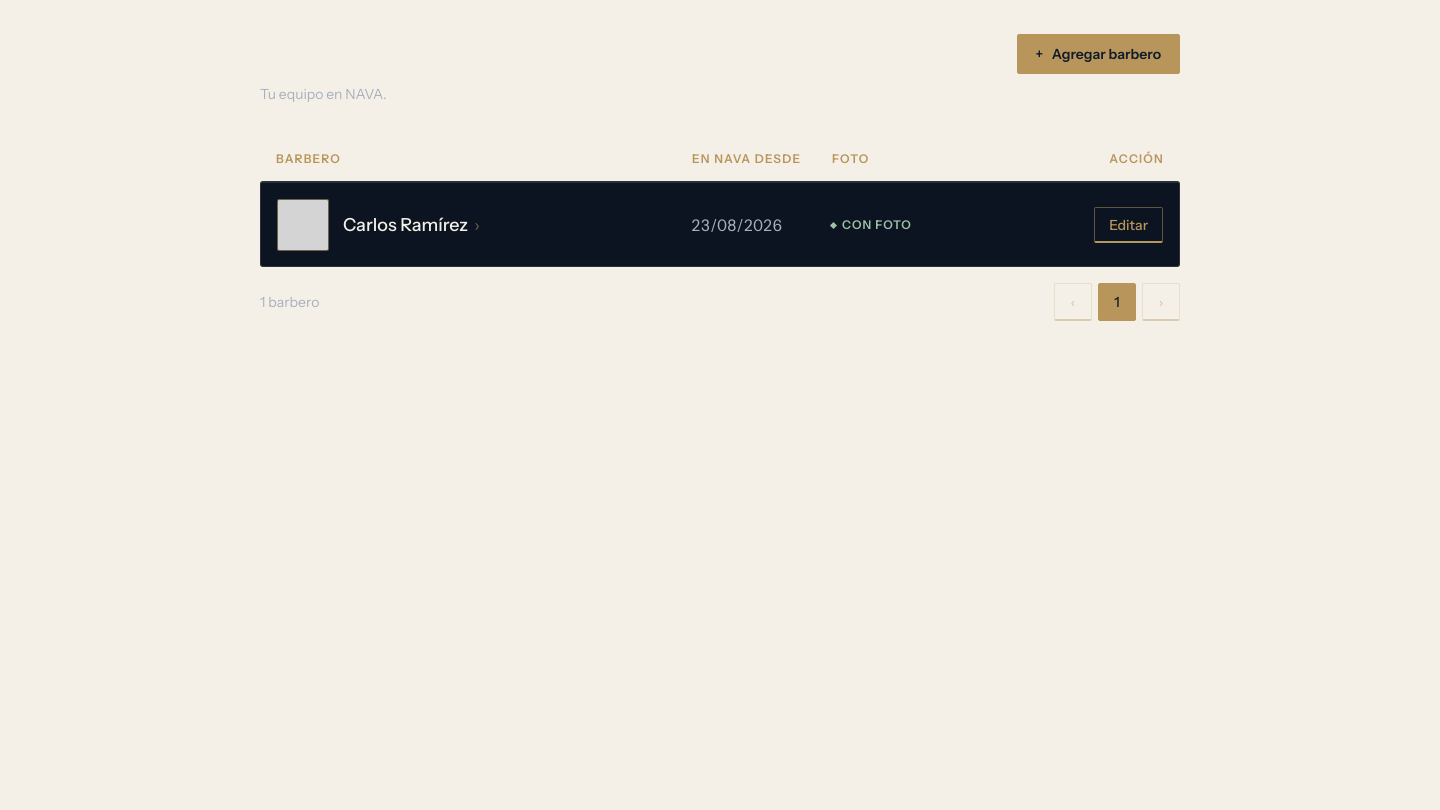
it: StaffPage › opens the barber detail with the portrait, and its Editar button hands over to the edit dialog
Click the button with class "staff-page__item-trigger". click: x=412, y=225
box: [343,213,480,237]
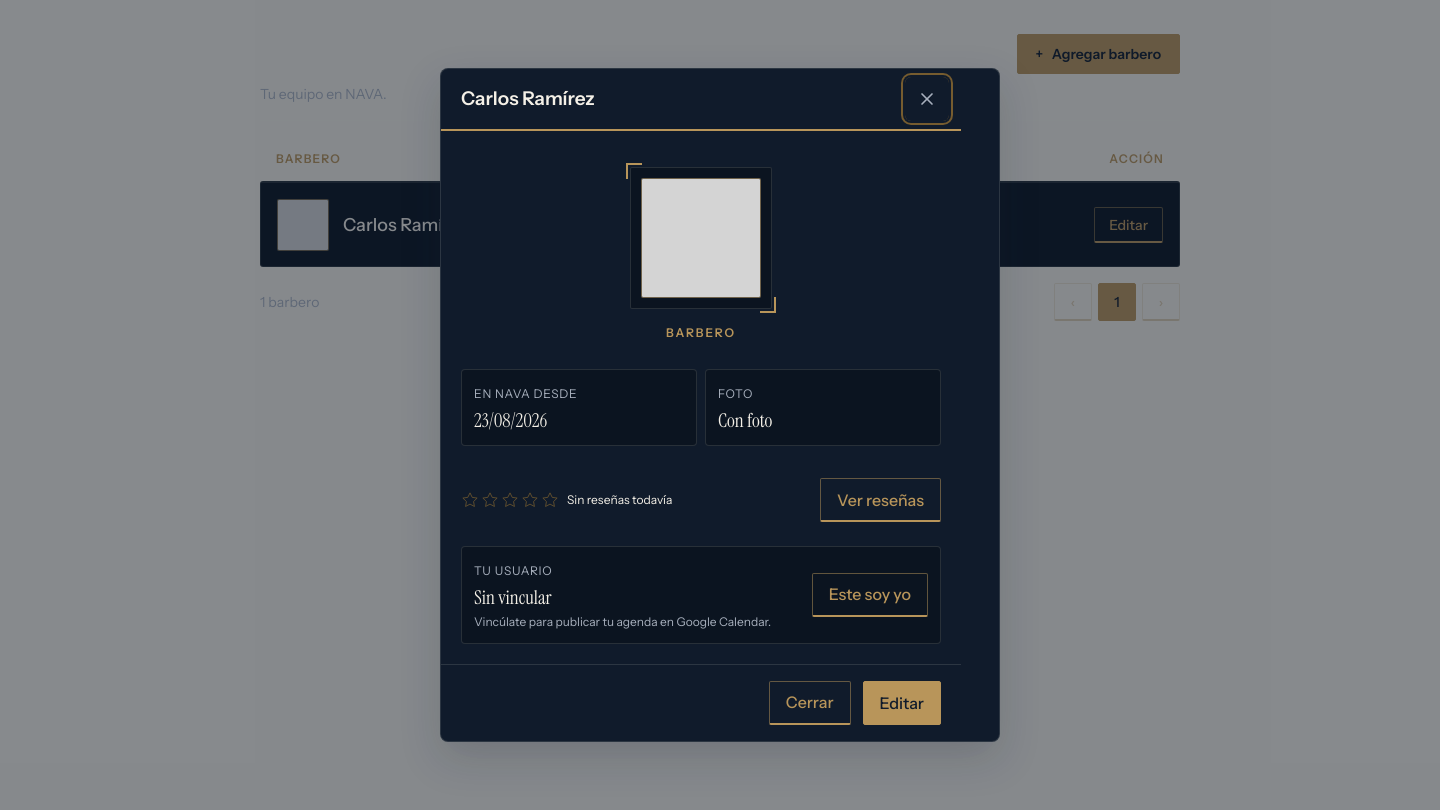
Now the dialog with class "base-dialog--open" shows "Carlos Ramírez", box [461,87,595,110]
Now the dialog with class "base-dialog--open" shows "23/08/2026", box [474,408,547,433]
Now the dialog with class "base-dialog--open" shows "Con foto", box [718,408,772,433]
Click the button "Editar". click: x=902, y=703
box: [863,681,941,725]
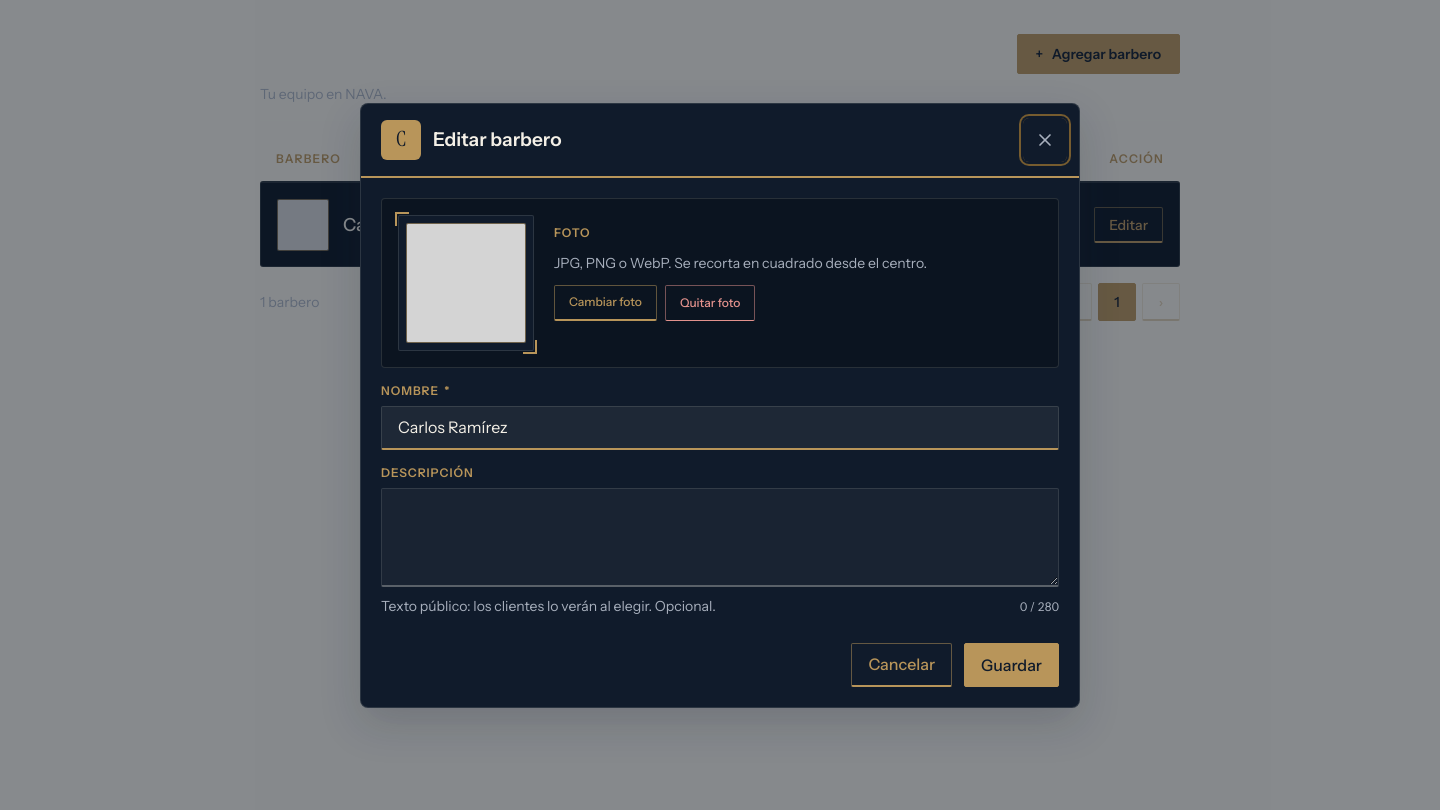
Now the field named "fullName" holds "Carlos Ramírez", box [381,406,1059,450]
